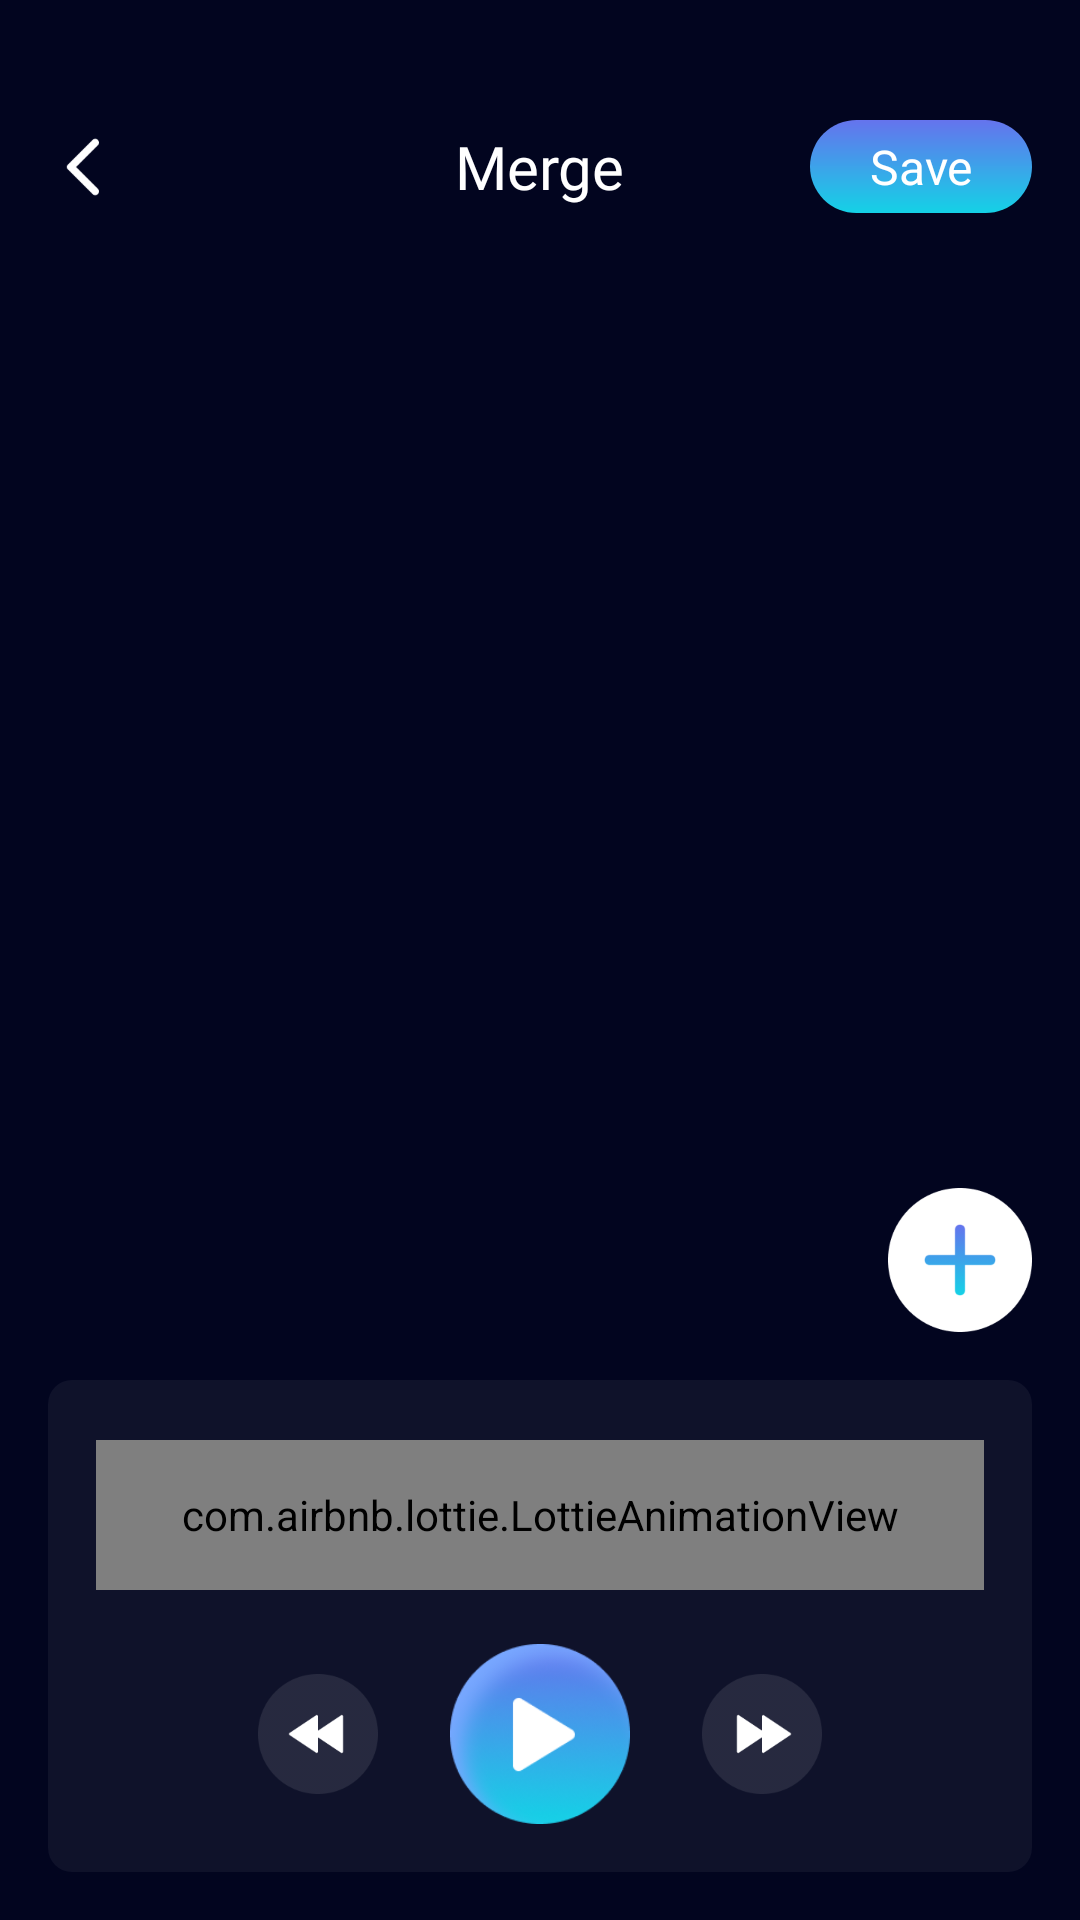

Icons on this 1080 × 1920 Android screen, each with its box as rect(x1, y1, x2, y2):
addmerge: rect(888, 1188, 1032, 1332)
back: rect(66, 138, 99, 196), rect(288, 1714, 344, 1754)
next: rect(736, 1714, 792, 1754)
paush: rect(450, 1644, 630, 1824)
